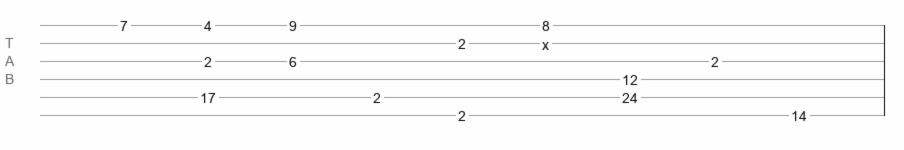12: (622, 72, 638, 82)
14: (791, 108, 807, 118)
17: (200, 90, 216, 100)
2: (204, 54, 212, 64), (373, 90, 381, 100), (458, 36, 466, 46), (458, 108, 466, 118), (711, 54, 719, 64)
24: (622, 90, 638, 100)
4: (204, 18, 212, 28)
6: (289, 54, 297, 64)
7: (120, 18, 128, 28)
8: (542, 18, 550, 28)
9: (289, 18, 297, 28)
x: (542, 37, 549, 45)
